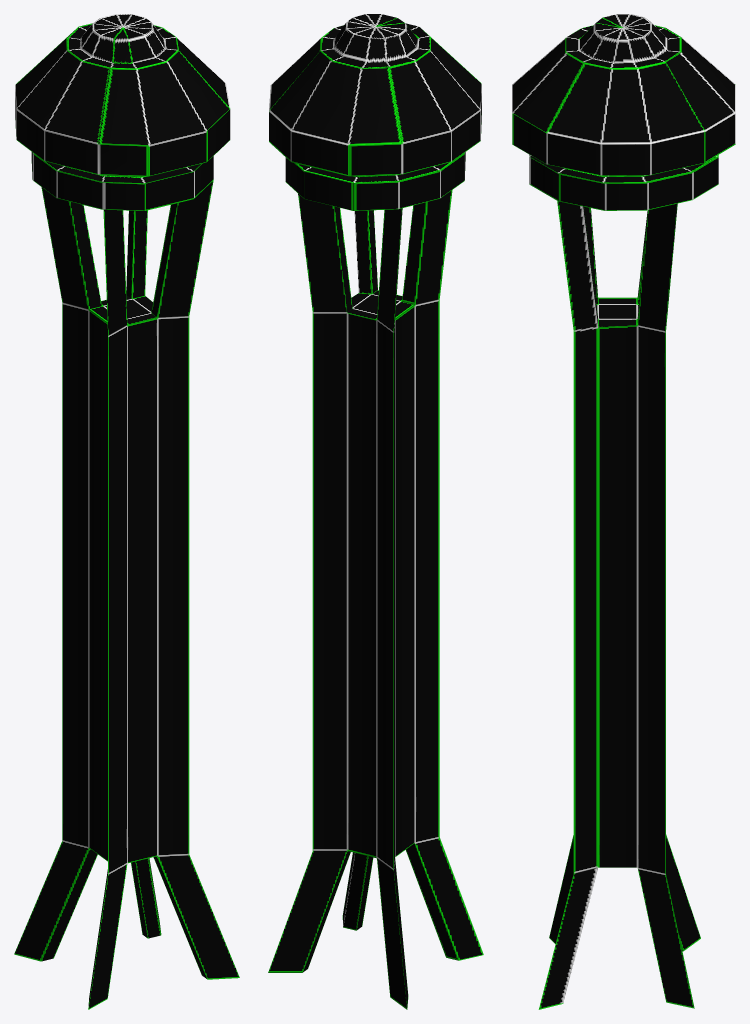
The model's file is Iffel_Tower.FBX.
The picture shows the model from 3 angles, left to right: view 1: azimuth 30°, elevation 25°; view 2: azimuth 150°, elevation 25°; view 3: azimuth 270°, elevation 25°; orthographic projection.
Visible parts, largest first — view 1: Iffel_Tower; view 2: Iffel_Tower; view 3: Iffel_Tower.
Boxes of the visible parts, <box> form: Iffel_Tower: <box>14,14,239,1009</box>; Iffel_Tower: <box>268,14,483,1009</box>; Iffel_Tower: <box>512,14,735,1009</box>.
Size of what is drawn, in the model's own units: 0.3719 by 1.81 by 0.3887.
1 material, 1 textured.
